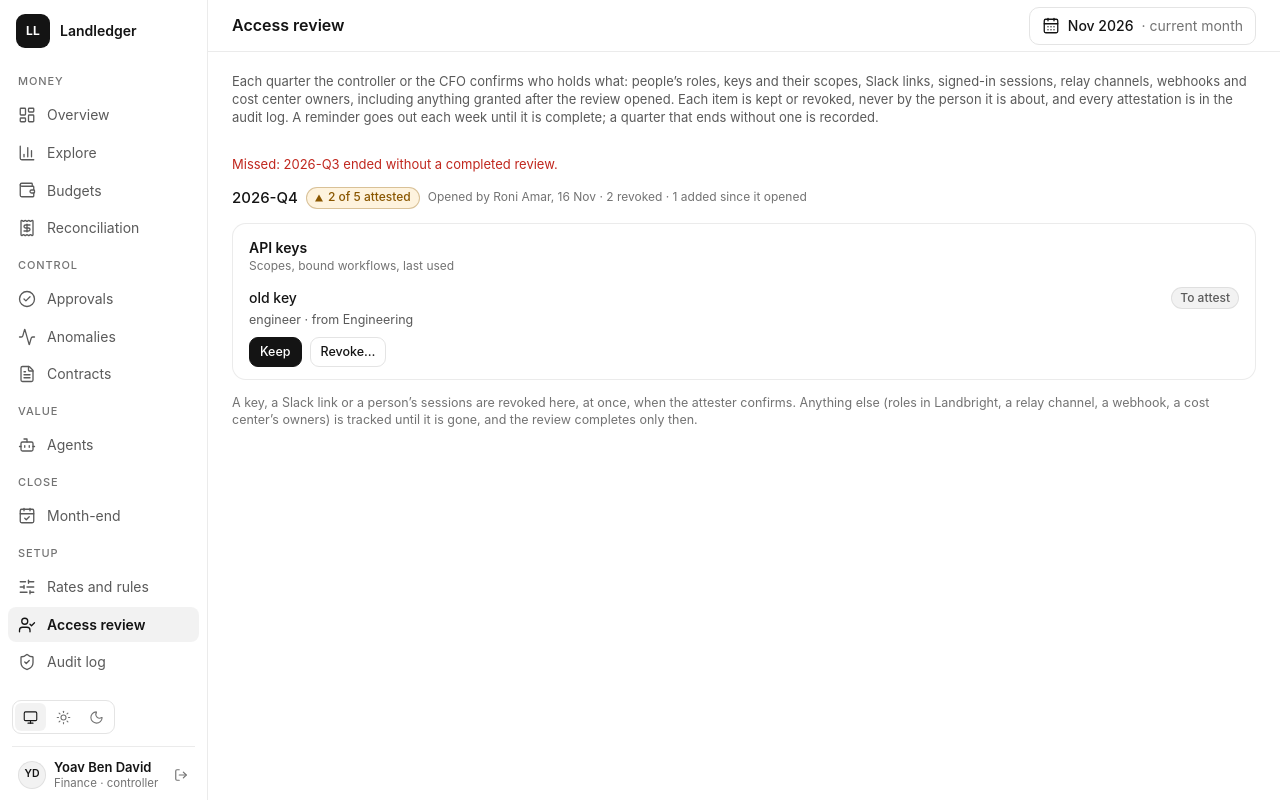
Test: Access review (spec 011) › asks the attester to confirm a revoke that takes effect at once (should-fix 9)
The image size is (1280, 800).
Later steps or results of the test are not shown.
Check: the text with test id "missed-quarters" shows "2026-Q3 ended without a completed review", box [232,156,558,172]
Click the button with test id "revoke-ari_k2": (348, 352) [310,337,386,367]
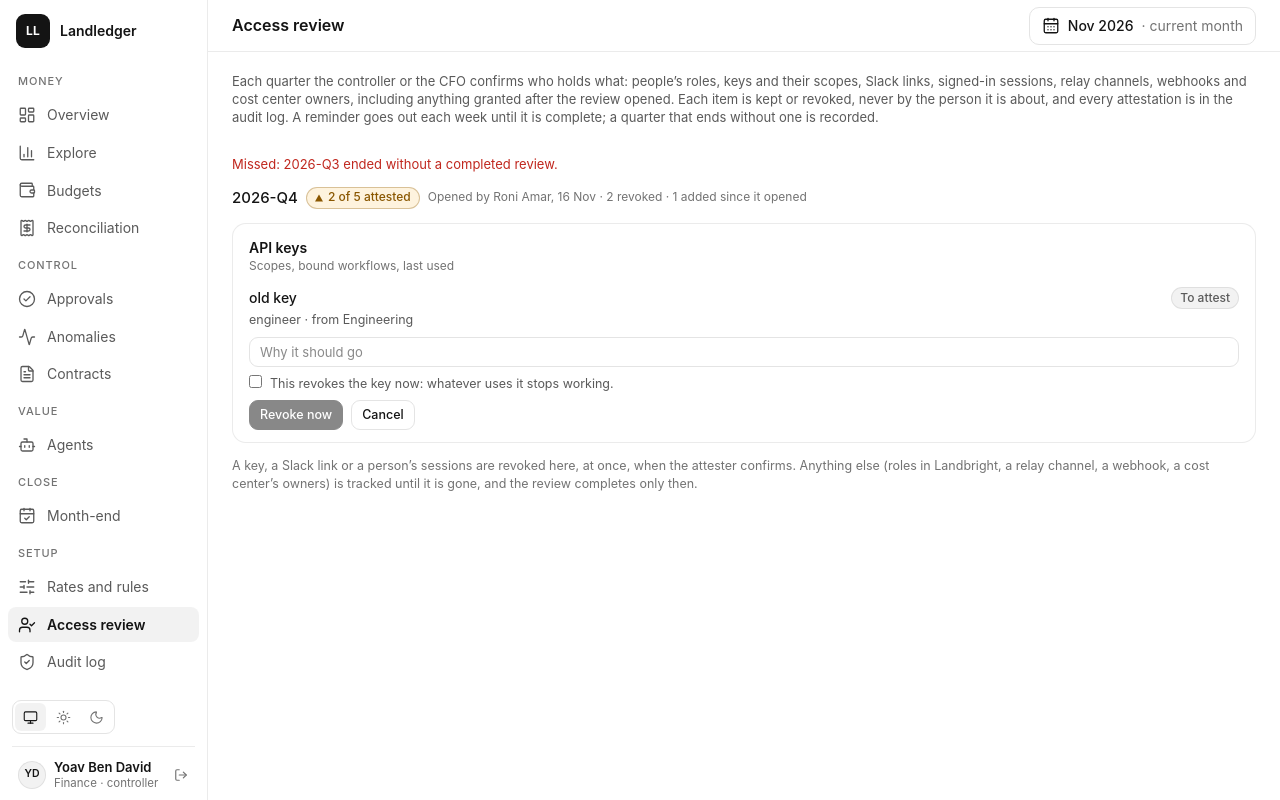
In the field named "Why revoke": (744, 352) [249,337,1239,367], type "Unused"
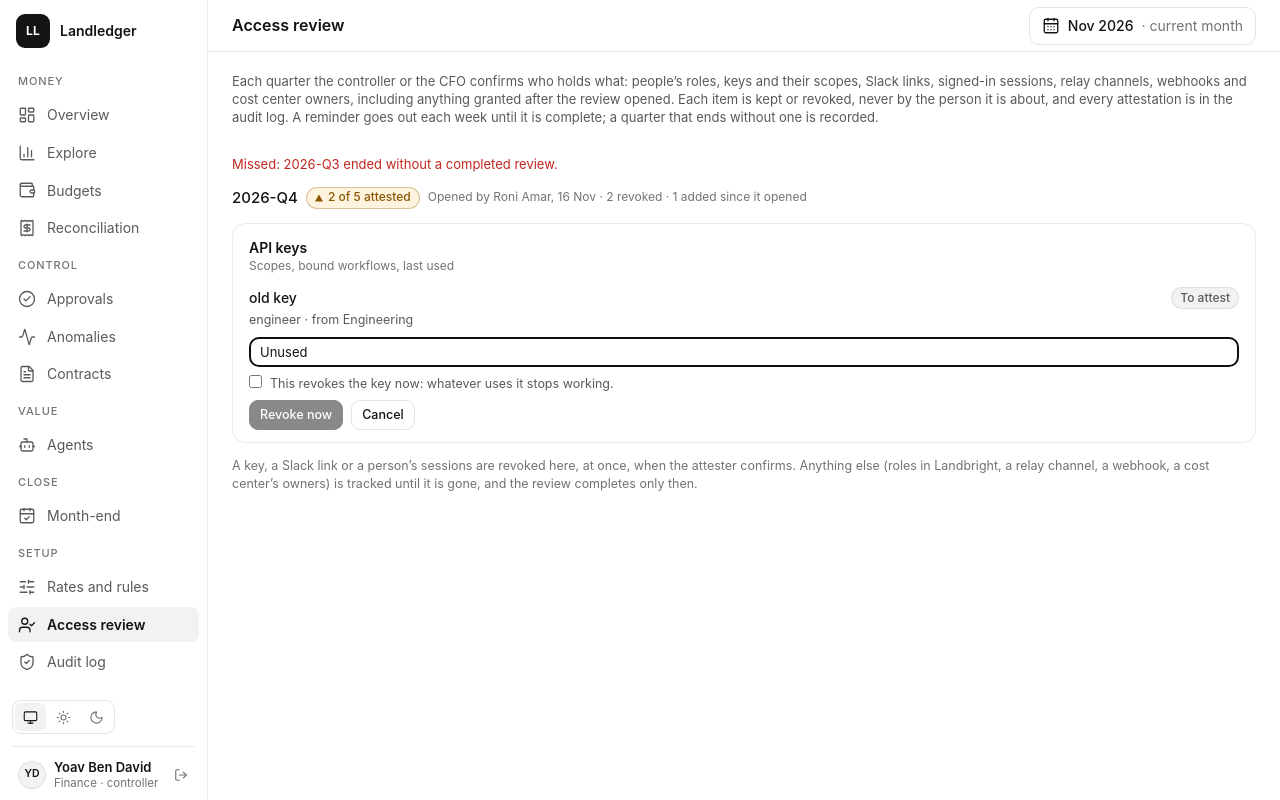
Check: the button "Revoke now" is disabled, box [249,400,343,430]
